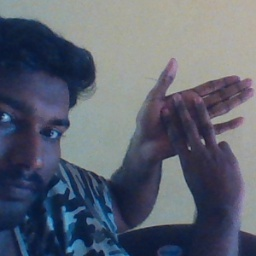M: (132, 57, 256, 211)
